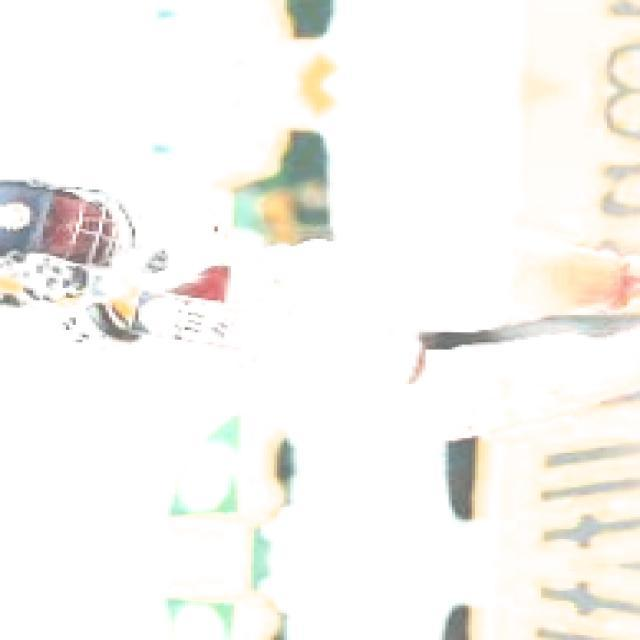bat: (58, 268, 442, 403)
toe: (405, 334, 426, 393)
